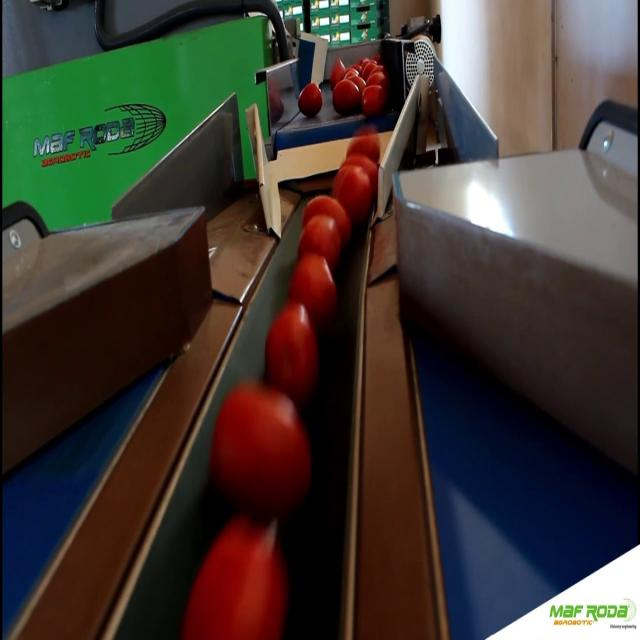Tomato: (213, 383, 316, 506), (188, 517, 288, 640), (264, 308, 317, 386), (286, 253, 338, 320), (301, 193, 352, 234), (331, 166, 371, 217), (295, 216, 339, 258), (343, 134, 382, 170), (338, 155, 376, 185), (330, 80, 362, 110), (296, 82, 323, 116), (359, 82, 387, 114), (368, 62, 386, 86), (331, 59, 345, 78)
